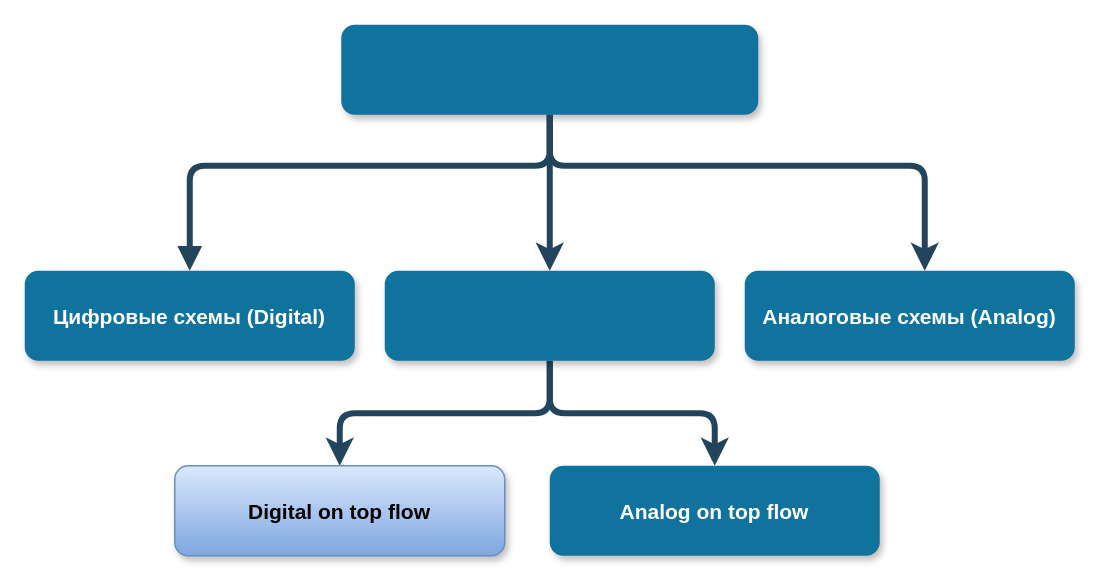
This 1100x581 diagram has some shape labels left out. Each missing label, with the centre of its shape:
"Разработка интегральных схем" belongs at [550,71].
"Смешанные (Mixed)" belongs at [550,317].
